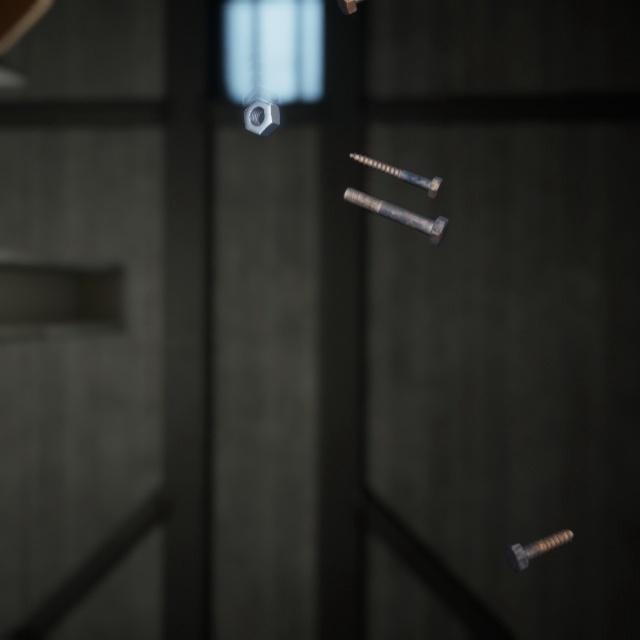bolt: (338, 168, 453, 235), (345, 135, 447, 190), (500, 502, 578, 553)
nut: (240, 81, 284, 128)
